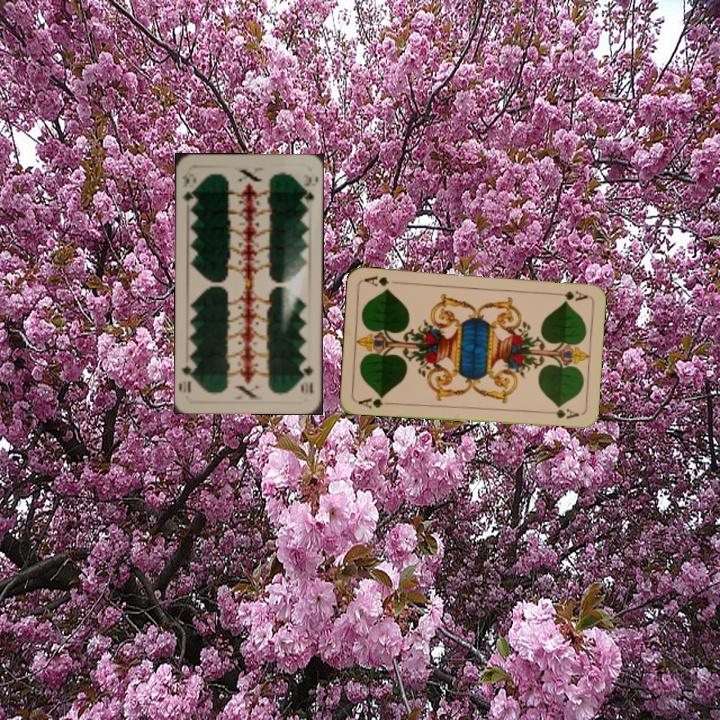G10: (178, 171, 198, 209), (298, 362, 315, 396)
GA: (354, 392, 394, 411), (550, 287, 590, 303)
